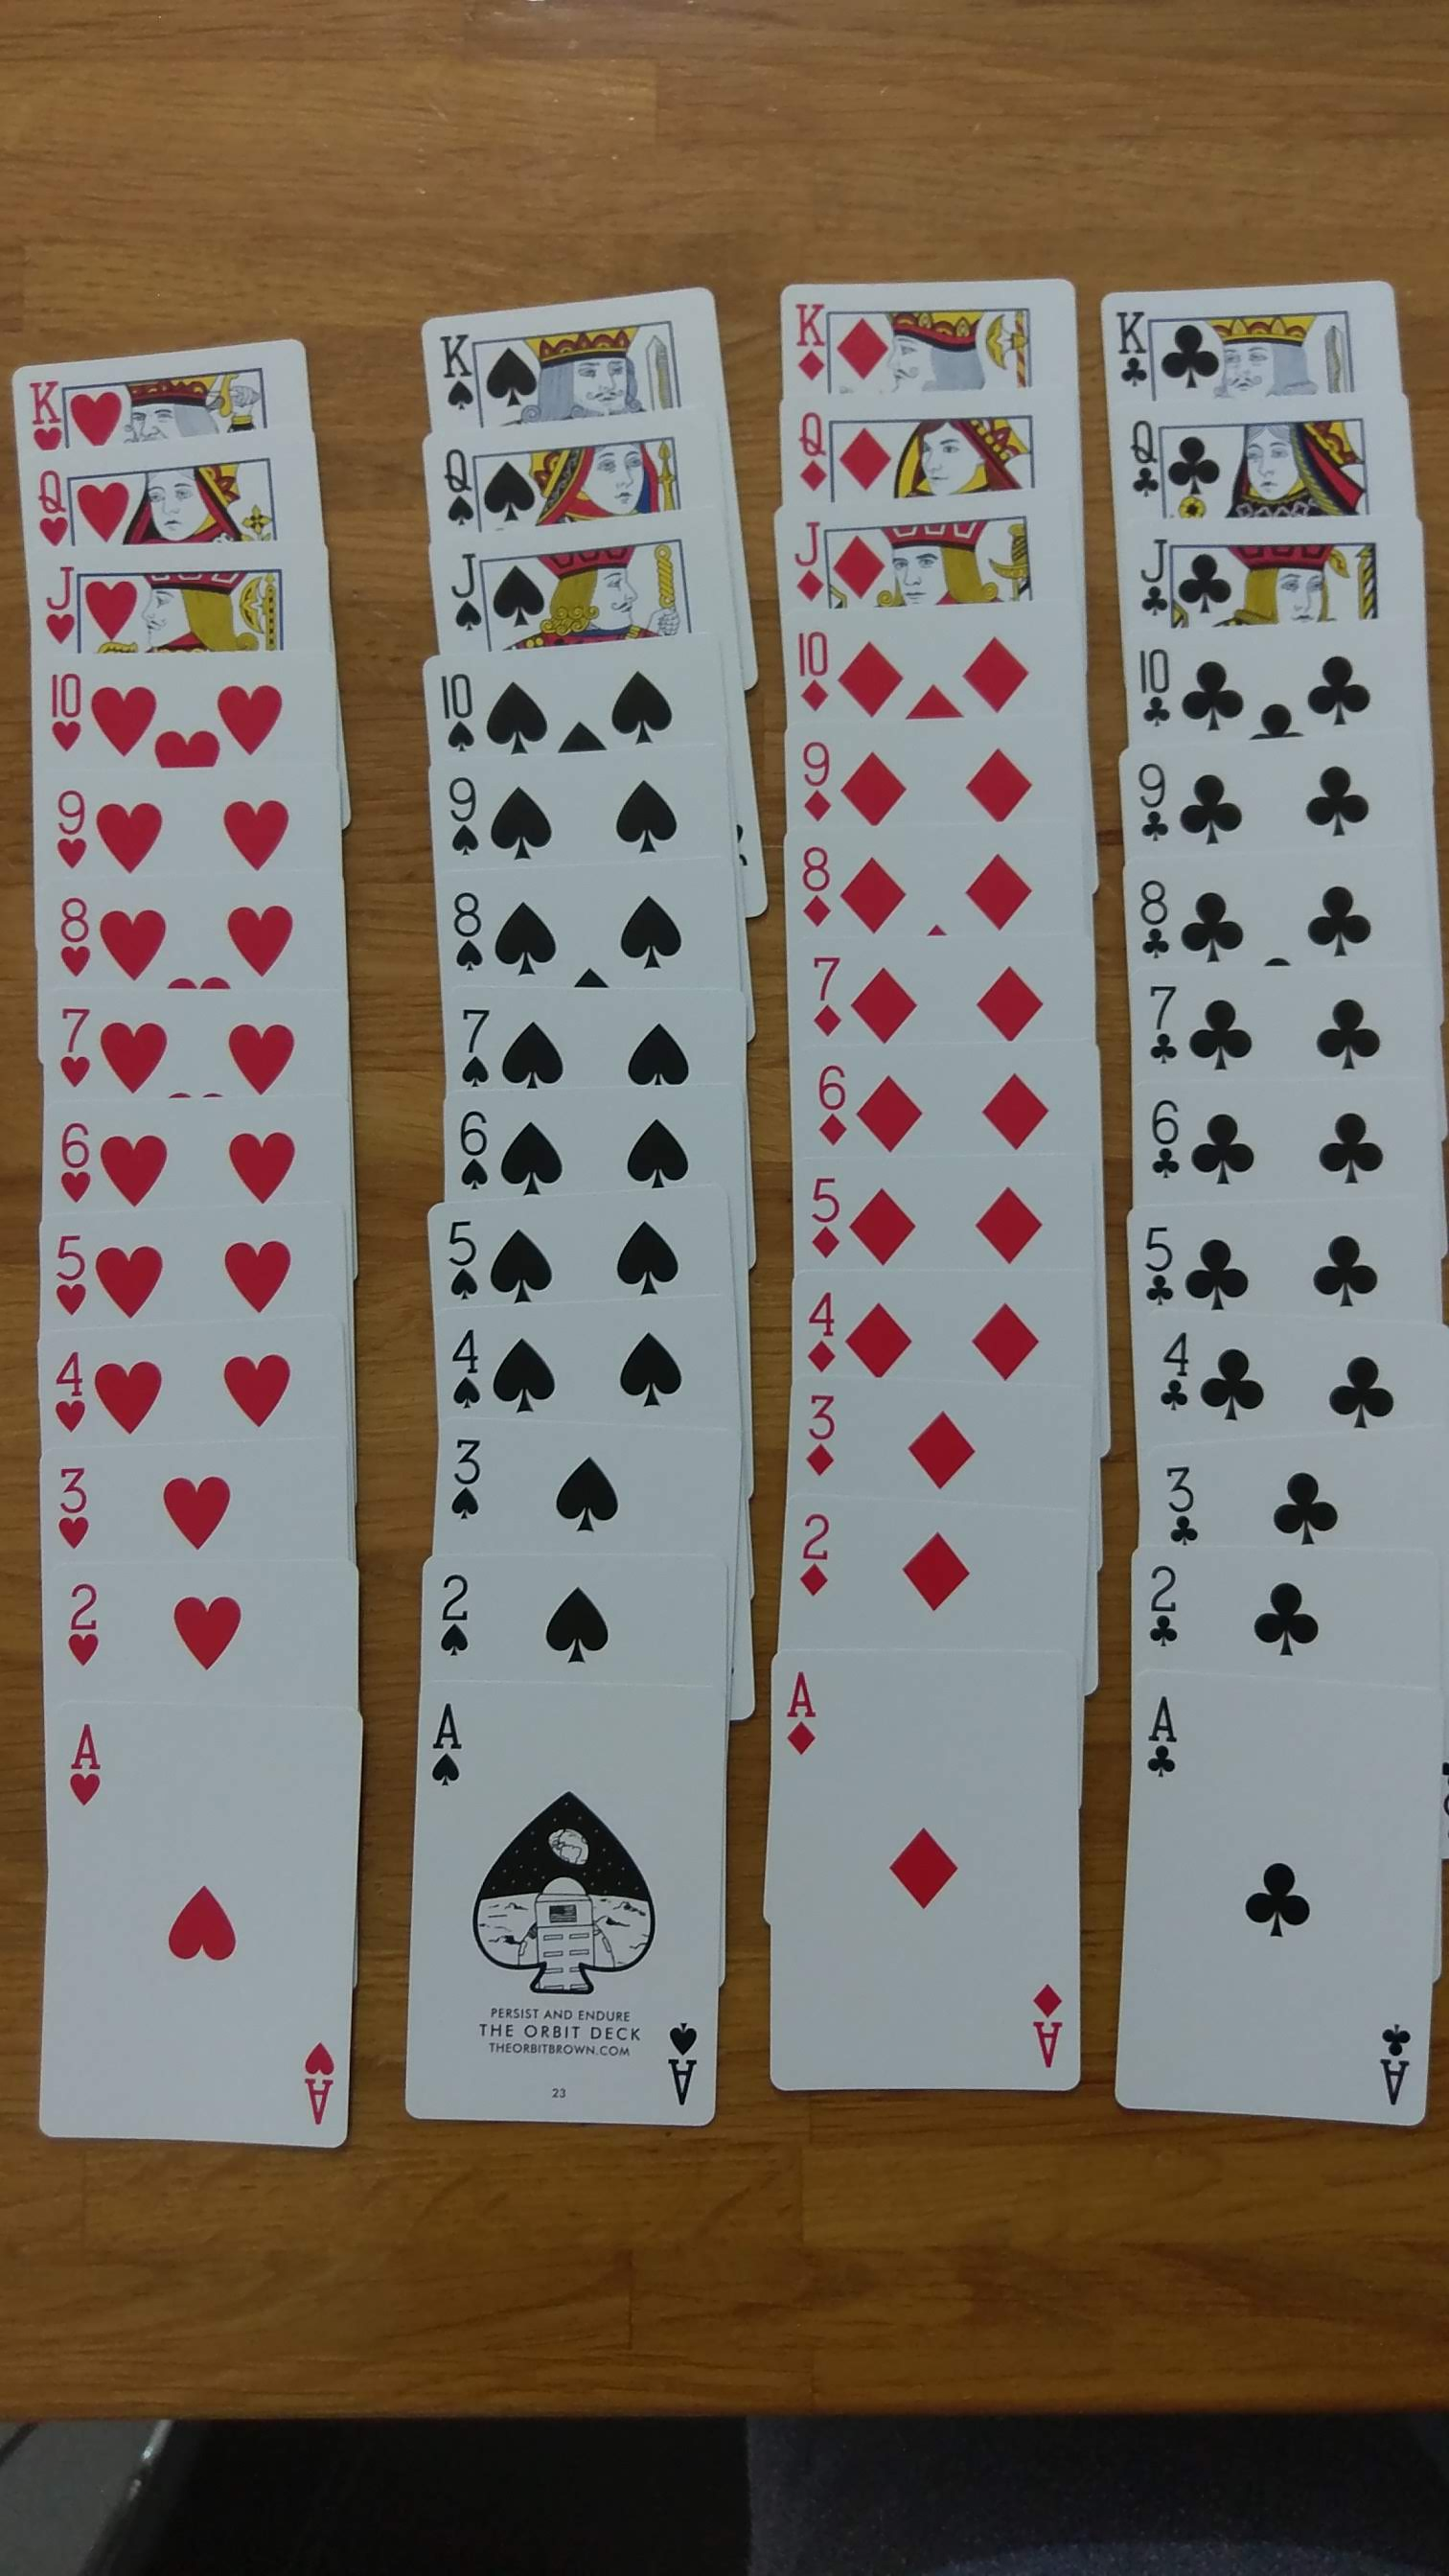10F: (1127, 637, 1180, 740)
10Q: (796, 616, 835, 711)
1F: (1141, 1683, 1187, 1798)
1Q: (778, 1660, 828, 1773)
2F: (1136, 1564, 1189, 1660)
2Q: (796, 1499, 839, 1615)
3F: (1152, 1461, 1214, 1559)
3Q: (796, 1382, 846, 1483)
4F: (1143, 1323, 1203, 1430)
4Q: (796, 1283, 846, 1378)
5F: (1134, 1200, 1185, 1315)
5Q: (807, 1169, 853, 1274)
6F: (1143, 1086, 1192, 1191)
6Q: (807, 1053, 855, 1155)
7F: (1143, 977, 1185, 1076)
7Q: (801, 941, 847, 1047)
8F: (1136, 870, 1178, 964)
8Q: (796, 839, 839, 932)
9F: (1132, 754, 1171, 853)
9Q: (798, 734, 842, 823)
JF: (1122, 524, 1185, 625)
JQ: (793, 513, 828, 603)
KF: (1108, 303, 1161, 391)
KQ: (789, 285, 828, 382)
QF: (1120, 414, 1177, 510)
QQ: (789, 402, 824, 502)
